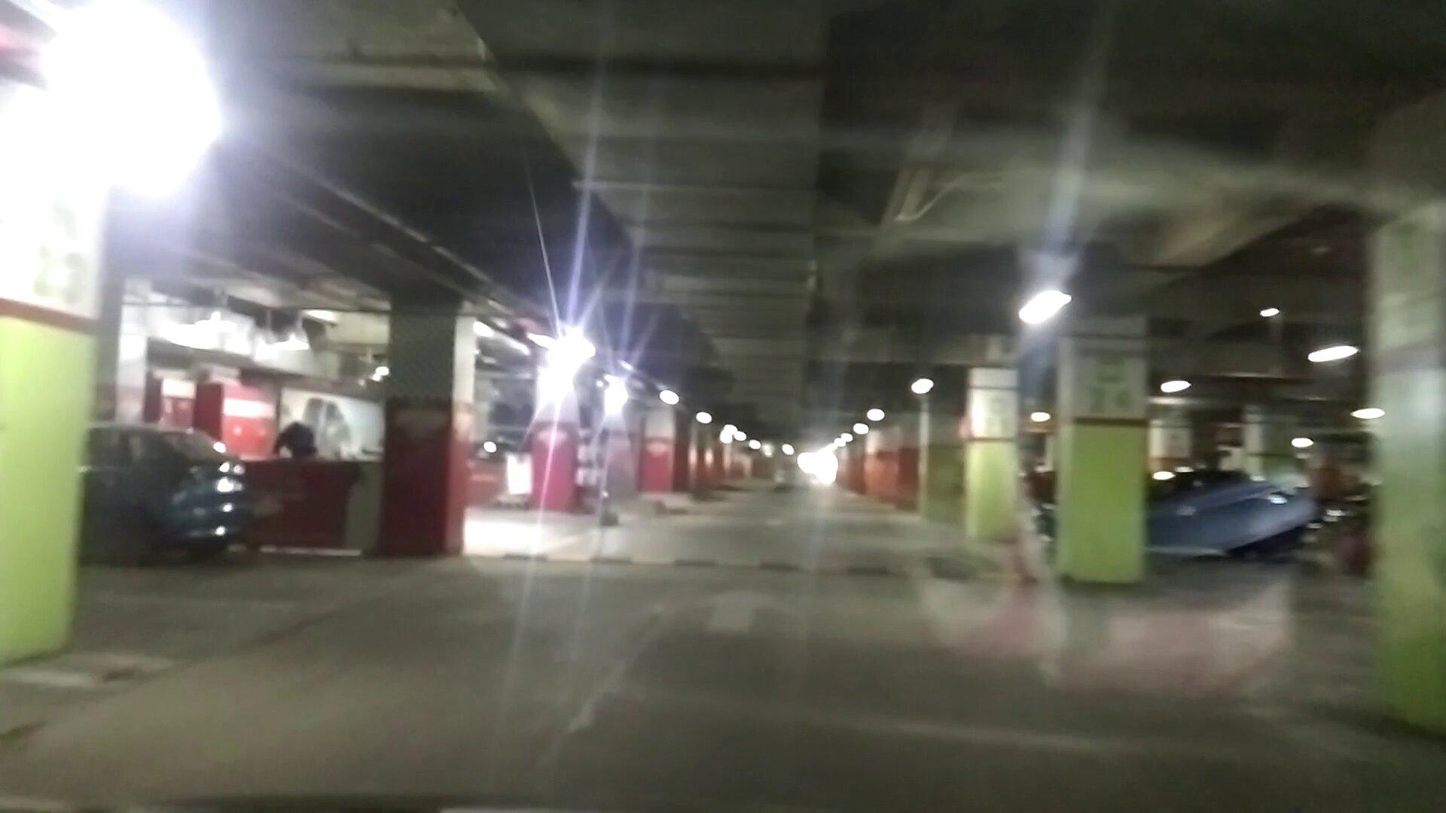Bump: (465, 546, 1066, 595)
